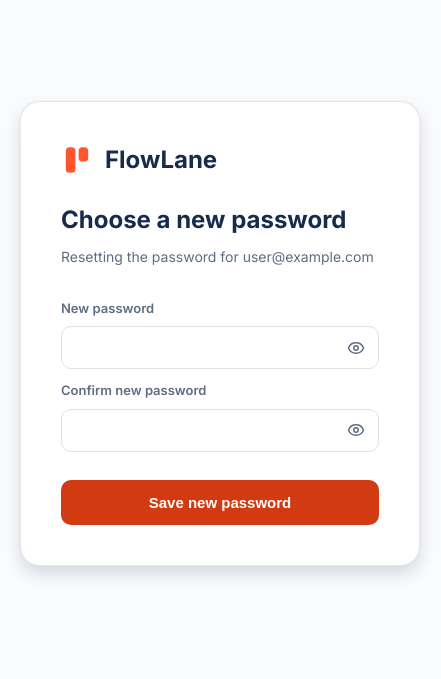
Test: AuthAction page › resetPassword › refuses a weak password
Expected: the heading "Choose a new password" is shown, [61,202,379,238]
Type "abc" into the password field labelled "New password".
click(220, 348); type("abc")  # box [61,326,379,369]
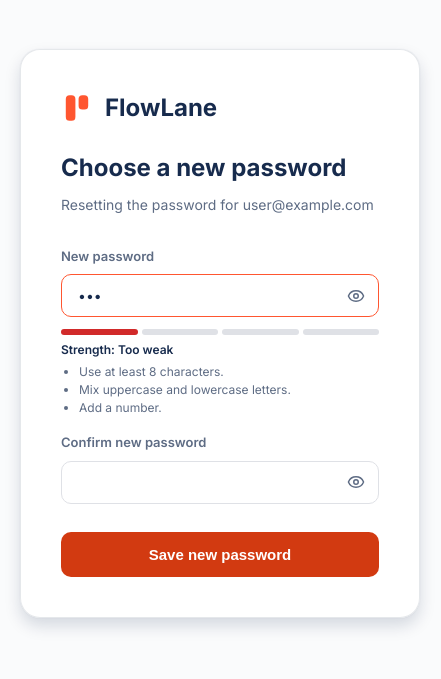
Type "abc" into the password field labelled "Confirm new password".
click(220, 482); type("abc")  # box [61,460,379,504]
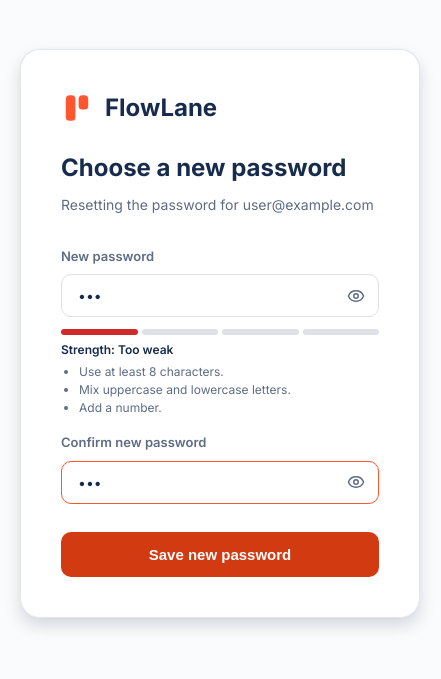
Click the button "Save new password".
click(220, 554)  # box [61,532,379,576]
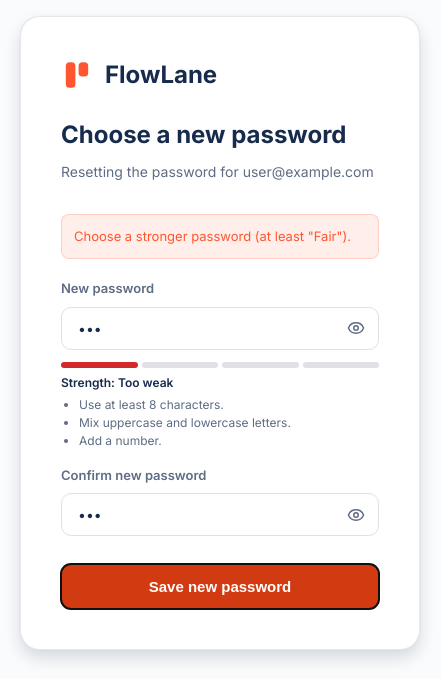
Result: the message reads "Choose a stronger password (at least \"Fair\")." at [74,228,351,244]
